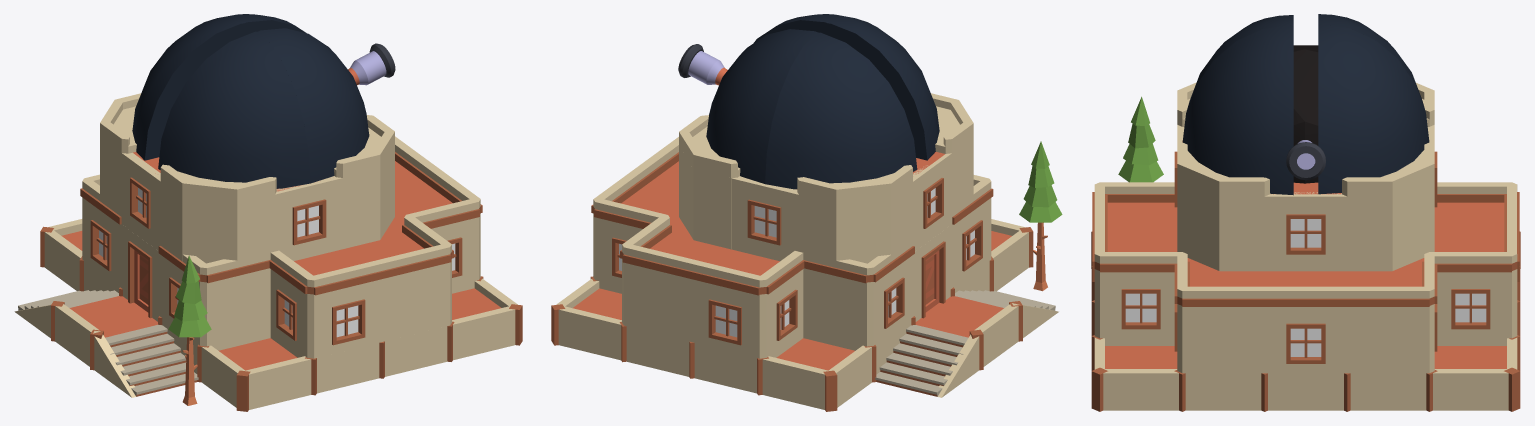
The model's file is observatoire.glb.
3 renders of one model, left to right at view 1: azimuth 30°, elevation 25°; view 2: azimuth 150°, elevation 25°; view 3: azimuth 270°, elevation 25°, orthographic. The views are drawn at different scales.
Visible parts, largest first — view 1: mergedBlocks(Clone); view 2: mergedBlocks(Clone); view 3: mergedBlocks(Clone).
Part boxes in pixels (x1=…): mergedBlocks(Clone): x1=14, y1=14, x2=522, y2=411; mergedBlocks(Clone): x1=551, y1=14, x2=1062, y2=411; mergedBlocks(Clone): x1=1091, y1=14, x2=1520, y2=411.
Bounding box in the file's own units: 5.2 × 4 × 5.21.
Materials: 1 (1 with a texture image).
